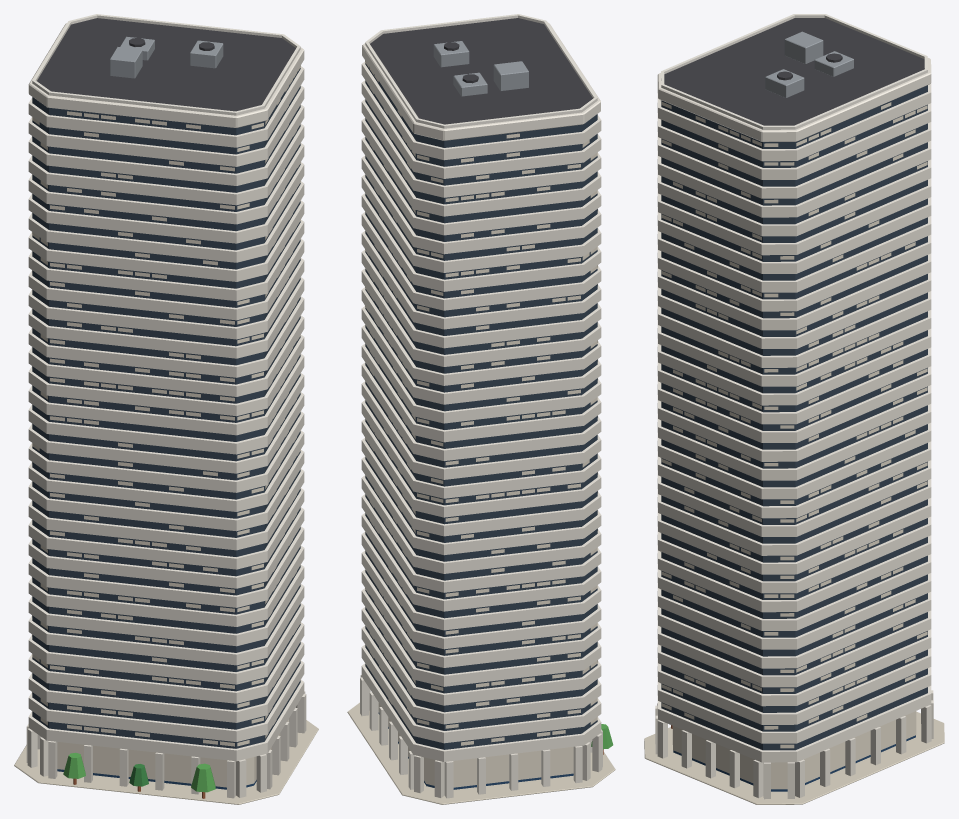
File: 45-fremont.glb
The picture shows the model from 3 angles, left to right: view 1: azimuth 30°, elevation 25°; view 2: azimuth 150°, elevation 25°; view 3: azimuth 270°, elevation 25°; orthographic projection. The views are drawn at different scales.
Visible parts, largest first — view 1: 45-fremont_body, 45-fremont_night_glow; view 2: 45-fremont_body, 45-fremont_night_glow; view 3: 45-fremont_body, 45-fremont_night_glow.
Boxes of the visible parts, x1,y1,x2,y2 form: 45-fremont_body: [14, 14, 318, 804]; 45-fremont_night_glow: [32, 65, 300, 787]; 45-fremont_body: [347, 14, 615, 804]; 45-fremont_night_glow: [365, 60, 597, 787]; 45-fremont_body: [644, 14, 944, 804]; 45-fremont_night_glow: [660, 100, 927, 789].
Size of the model in its own units: 57.77 by 145 by 57.64.
